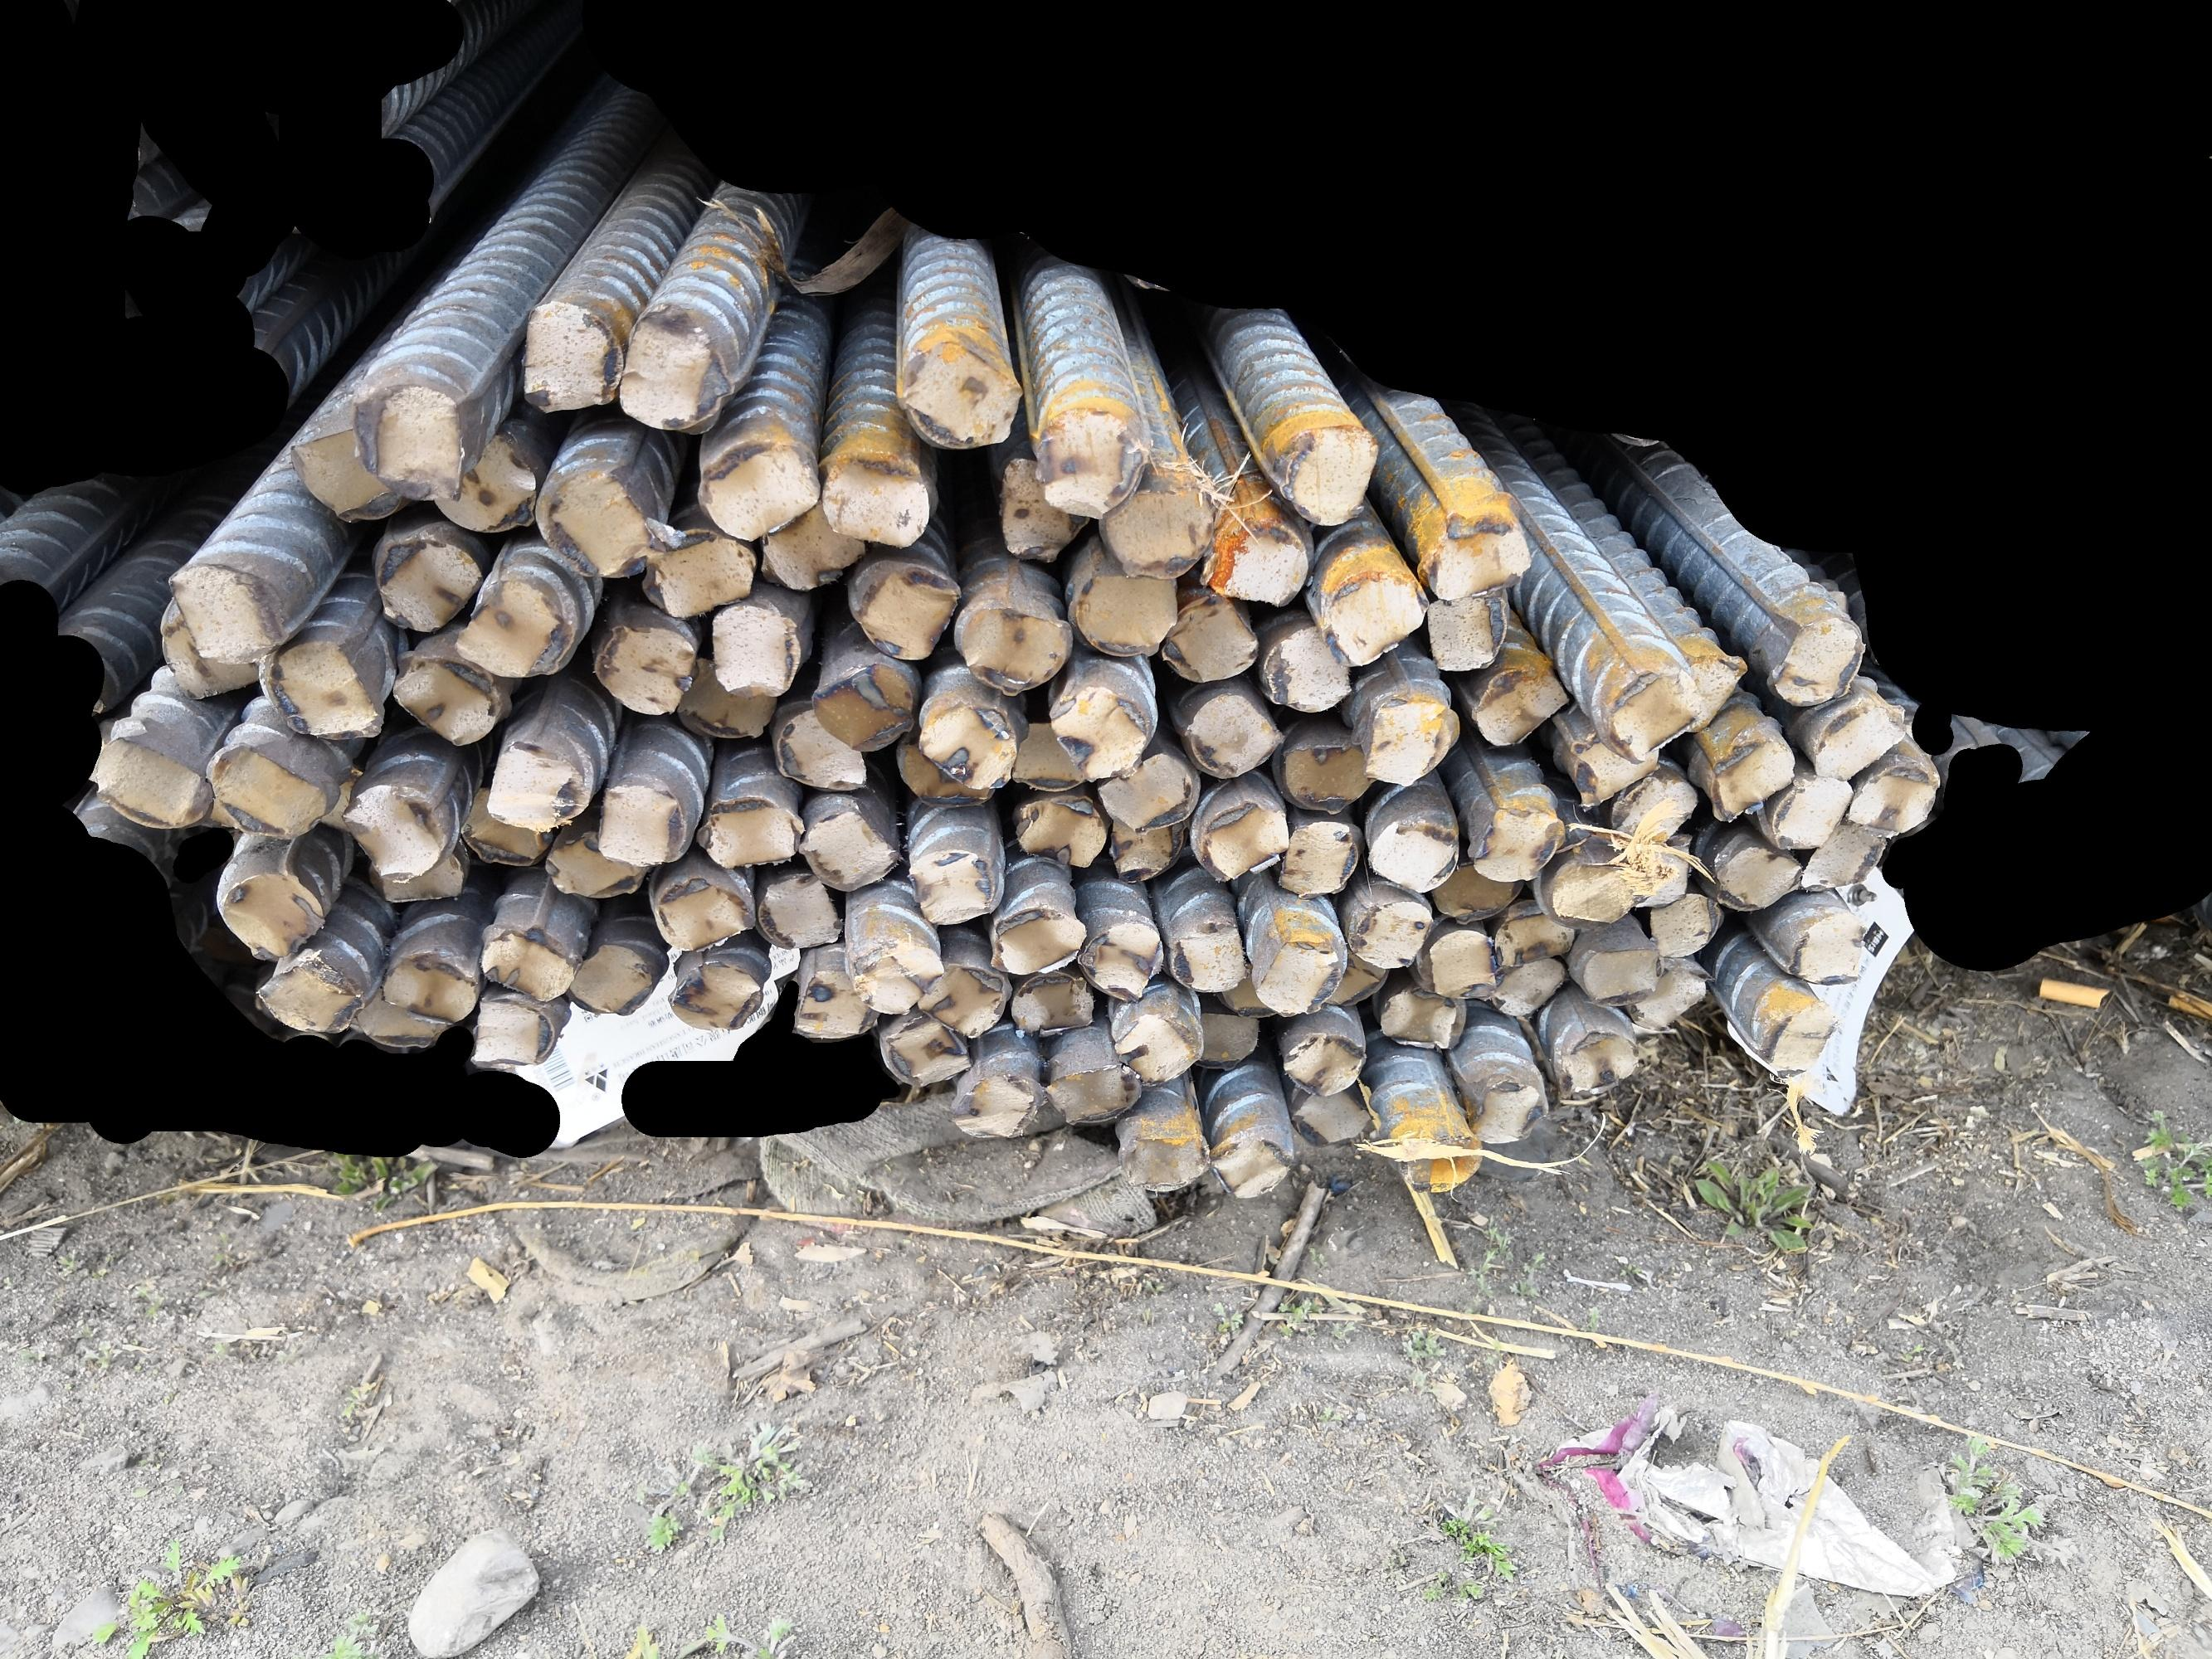bar: (610, 298, 739, 434), (342, 380, 474, 505), (450, 561, 577, 685), (530, 460, 659, 582), (892, 336, 1021, 451), (697, 429, 824, 544), (1034, 401, 1152, 523), (82, 727, 214, 833), (254, 636, 390, 739), (516, 295, 624, 418), (336, 774, 453, 887), (366, 528, 486, 638), (1100, 476, 1220, 586), (281, 425, 408, 528), (990, 450, 1100, 568), (200, 739, 329, 838), (1271, 416, 1384, 528), (427, 429, 544, 535), (845, 558, 962, 664), (636, 519, 760, 619), (162, 565, 288, 662), (591, 613, 702, 721), (955, 594, 1072, 697), (816, 450, 934, 551), (751, 493, 870, 594), (207, 864, 329, 962), (150, 601, 265, 704), (389, 650, 506, 751), (1320, 565, 1426, 673), (1041, 681, 1150, 786), (1424, 504, 1537, 605), (1605, 660, 1710, 769), (1199, 511, 1311, 612), (1759, 612, 1874, 709), (804, 657, 919, 753), (1069, 565, 1184, 660), (917, 692, 1025, 793), (706, 591, 804, 701), (485, 734, 591, 833), (251, 950, 366, 1037), (666, 653, 781, 741), (690, 788, 807, 873), (795, 802, 905, 892), (467, 918, 582, 1004), (767, 702, 873, 795), (1159, 589, 1259, 687), (648, 870, 760, 955), (1358, 695, 1459, 789), (1178, 694, 1286, 781), (1801, 702, 1917, 782), (1257, 622, 1356, 716), (1091, 746, 1198, 833), (537, 821, 652, 901), (591, 777, 690, 870), (1546, 854, 1668, 929), (1464, 662, 1571, 748), (840, 934, 948, 1018), (1252, 927, 1349, 1019), (1192, 798, 1295, 885), (1839, 755, 1942, 840), (664, 953, 769, 1037), (899, 843, 1004, 927), (1271, 735, 1377, 817), (1703, 732, 1799, 823), (1006, 789, 1110, 871), (788, 955, 884, 1044), (453, 779, 551, 866), (1466, 800, 1565, 885), (1075, 913, 1166, 1006), (913, 951, 1008, 1040), (380, 946, 483, 1026), (350, 979, 462, 1053), (892, 739, 1004, 812), (1788, 817, 1895, 894), (1361, 812, 1462, 892), (565, 934, 659, 1019), (462, 985, 558, 1068), (983, 904, 1089, 978), (1768, 767, 1858, 852), (1551, 1023, 1645, 1105), (875, 1012, 974, 1089), (1272, 812, 1360, 899), (1100, 807, 1191, 890), (1107, 1004, 1199, 1086), (1607, 770, 1700, 852), (1571, 732, 1665, 812), (947, 1068, 1053, 1138), (1037, 1058, 1145, 1126), (1788, 904, 1872, 992), (1110, 1124, 1213, 1194), (1004, 711, 1089, 795), (1161, 917, 1252, 995), (1428, 854, 1527, 925), (1344, 894, 1436, 971), (1574, 936, 1666, 1012), (1675, 645, 1752, 737), (751, 871, 845, 946), (1274, 1026, 1367, 1101), (1708, 840, 1802, 913), (1002, 967, 1098, 1039), (1421, 589, 1501, 674), (1762, 995, 1839, 1084), (1388, 1129, 1487, 1197), (1424, 920, 1503, 1006), (1468, 1070, 1551, 1148), (1379, 979, 1466, 1054), (1626, 962, 1712, 1035), (364, 849, 471, 906), (1208, 1131, 1293, 1202), (1485, 904, 1581, 967), (1286, 1079, 1375, 1145), (1482, 951, 1571, 1018), (1621, 838, 1696, 915), (1640, 887, 1715, 960), (1189, 1004, 1262, 1075), (1321, 946, 1391, 1014), (307, 760, 366, 838), (181, 781, 256, 838), (1220, 960, 1278, 1025)
